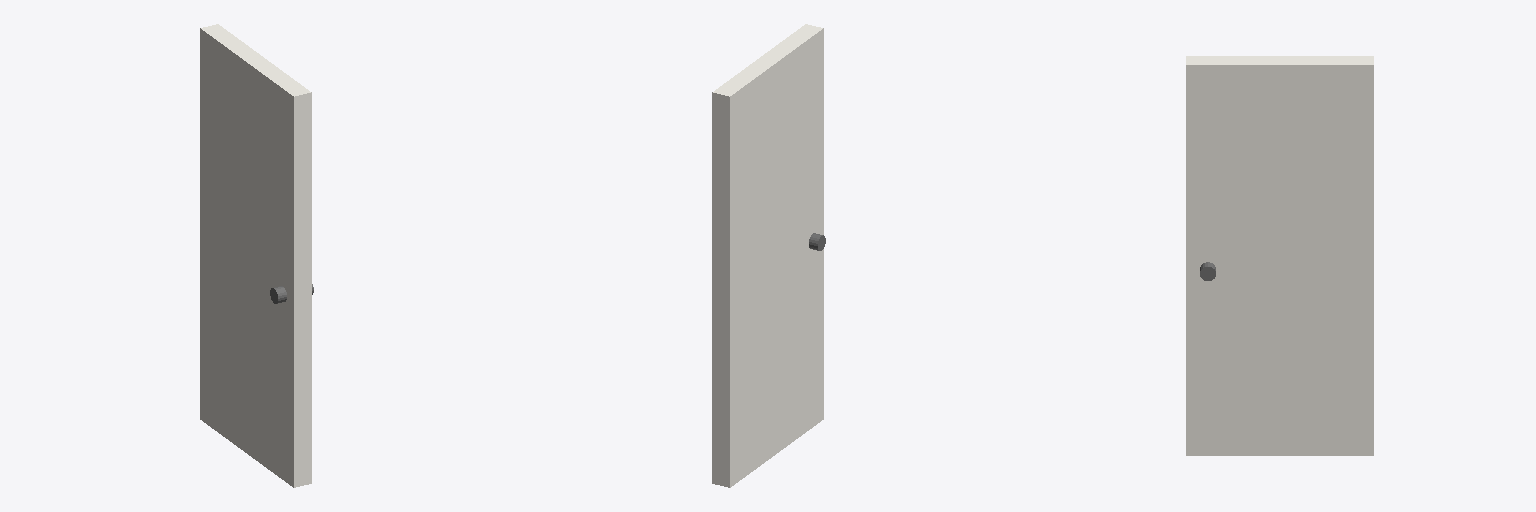
File: Door1_L.obj
3 renders of one model, left to right at view 1: azimuth 30°, elevation 25°; view 2: azimuth 150°, elevation 25°; view 3: azimuth 270°, elevation 25°, orthographic.
Visible parts, largest first — view 1: DWPR_005_3; view 2: DWPR_005_3; view 3: DWPR_005_3.
Boxes of the visible parts, <box> form: DWPR_005_3: <box>200,24,311,487</box>; DWPR_005_3: <box>712,24,823,487</box>; DWPR_005_3: <box>1186,56,1373,455</box>.
Size of the model in its own units: 2 by 21 by 9.1.